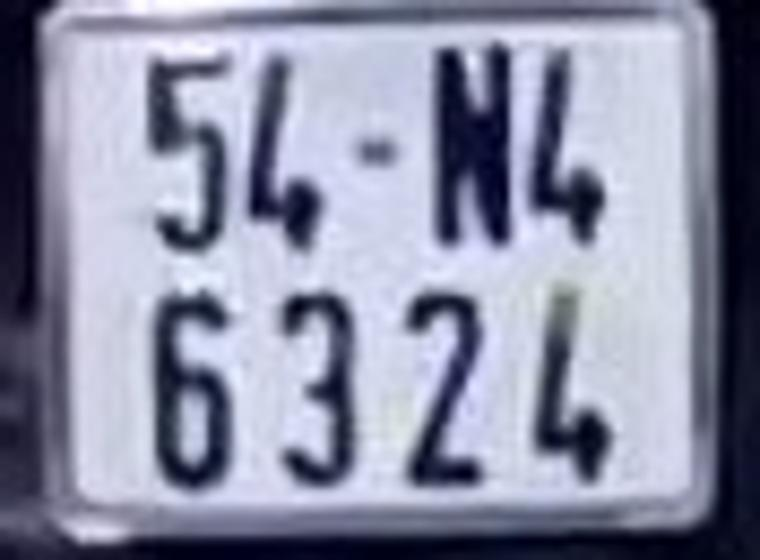-: (354, 138, 398, 176)
2: (404, 289, 486, 496)
3: (277, 288, 362, 489)
4: (241, 54, 328, 252), (526, 52, 611, 245), (532, 287, 614, 478)
5: (143, 49, 235, 254)
6: (150, 285, 239, 494)
N: (430, 46, 513, 248)
